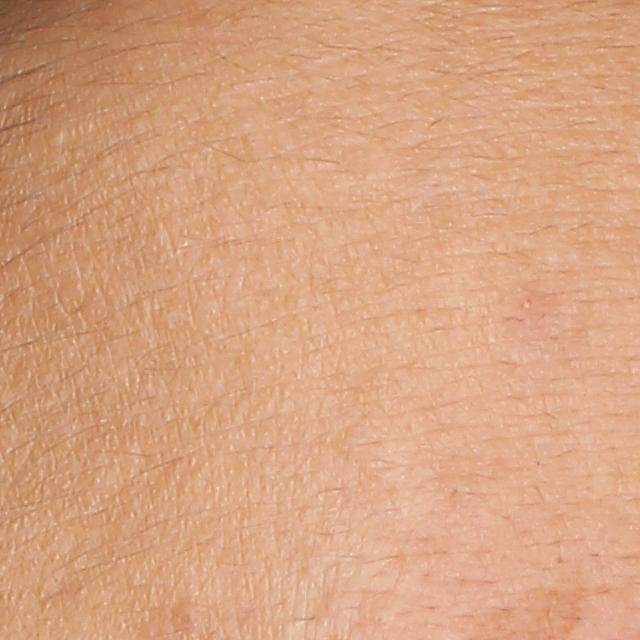comedo: (171, 599, 200, 627), (49, 127, 68, 148)
